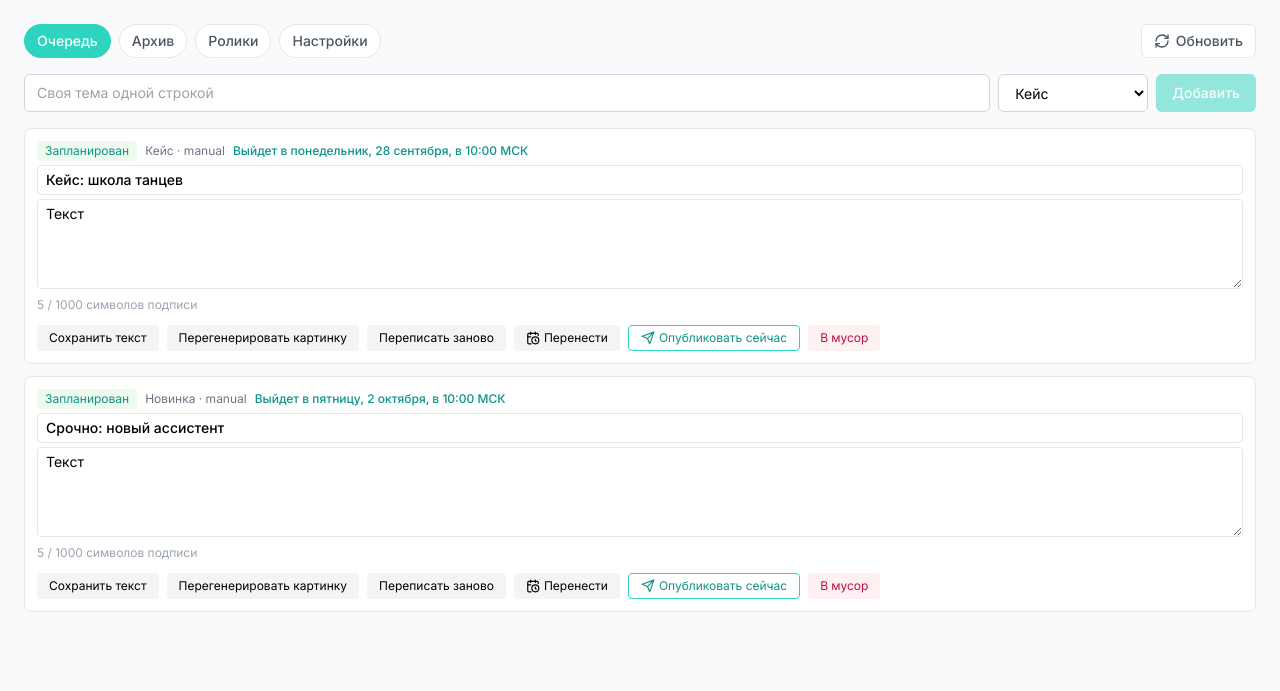
перенос слота › срочное — на понедельник, кейс — на среду: два переноса без тупиков
What coordinates should you click on to do the following:
click the 1st button "Перенести"
I would click on:
 (567, 338)
Its box is [514,325,620,351].
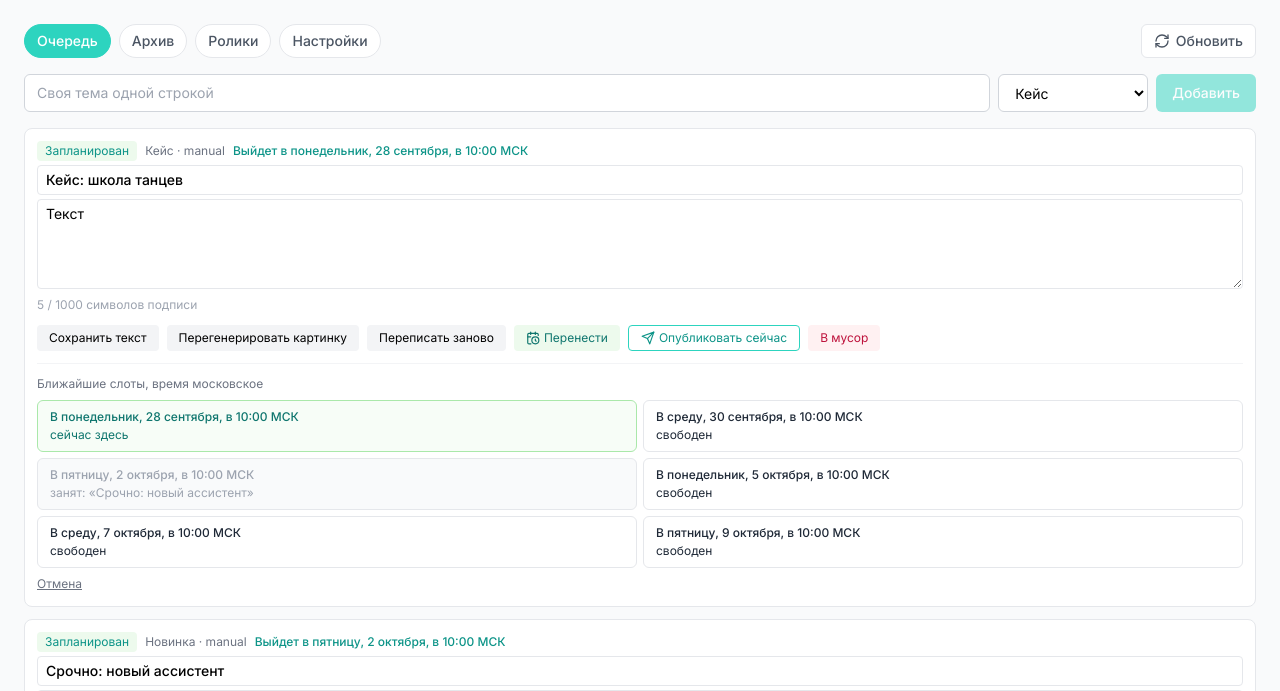
What coordinates should you click on to do the following:
click the button "В среду, 30 сентября, в 10:00 МСК свободен"
I would click on:
 (759, 416)
Its box is [643,400,1243,452].
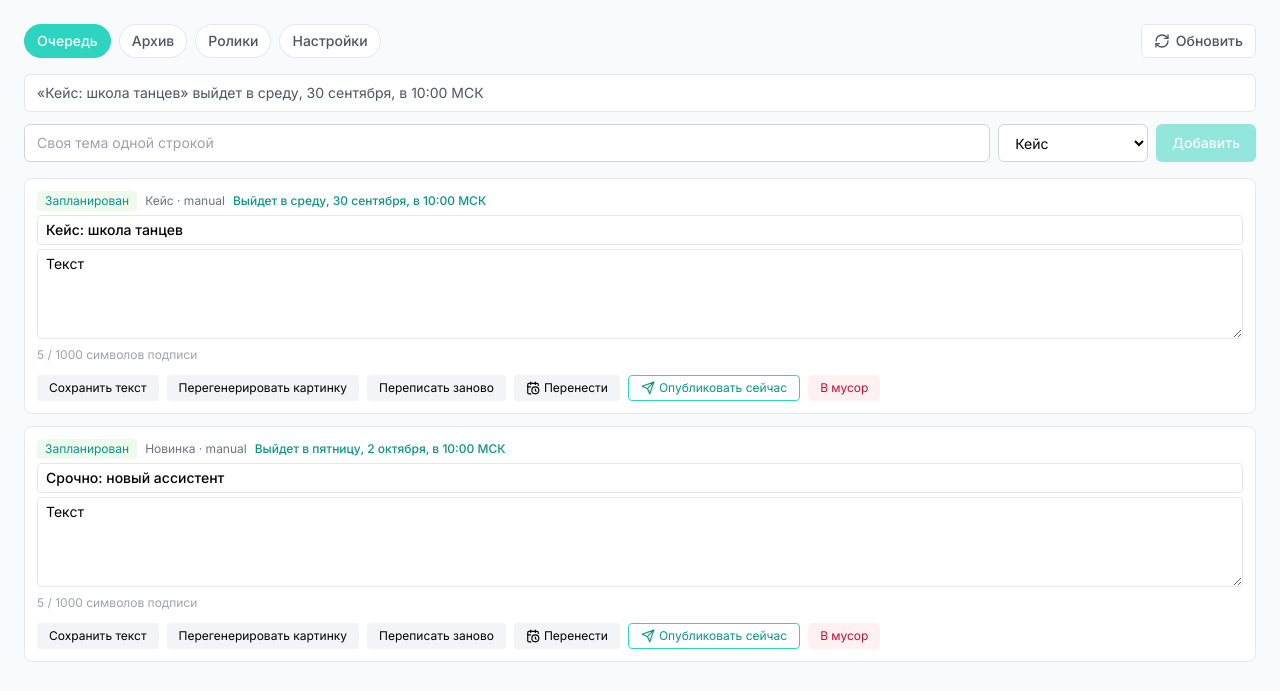
Now the text "Выйдет в среду, 30 сентября, в 10:00 МСК" is shown, box [233,193,486,209]
What coordinates should you click on to do the following:
click the button "Перенести" below "Выйдет в пятницу, 2 октября, в 10:00 МСК"
I would click on:
 (567, 636)
Its box is [514,623,620,649].
(page scrolled)
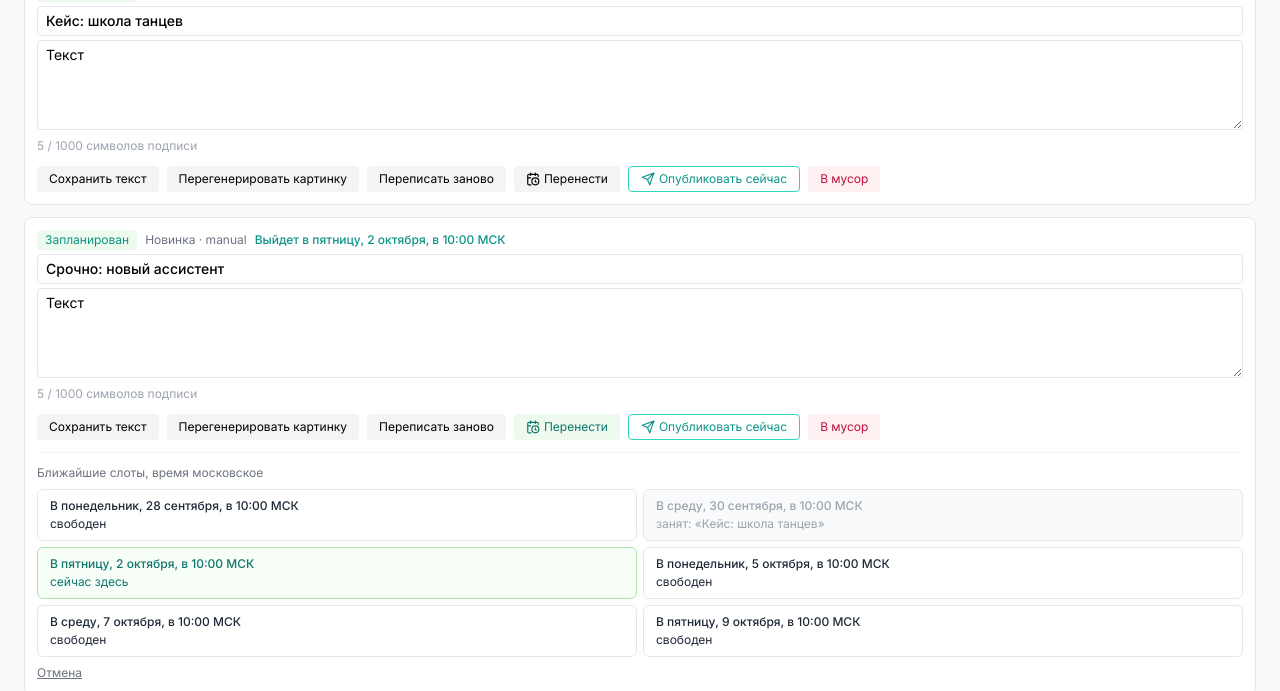
What coordinates should you click on to do the following:
click the button "В понедельник, 28 сентября, в 10:00 МСК свободен"
I would click on:
 (174, 506)
Its box is [37,489,637,541].
(page scrolled)
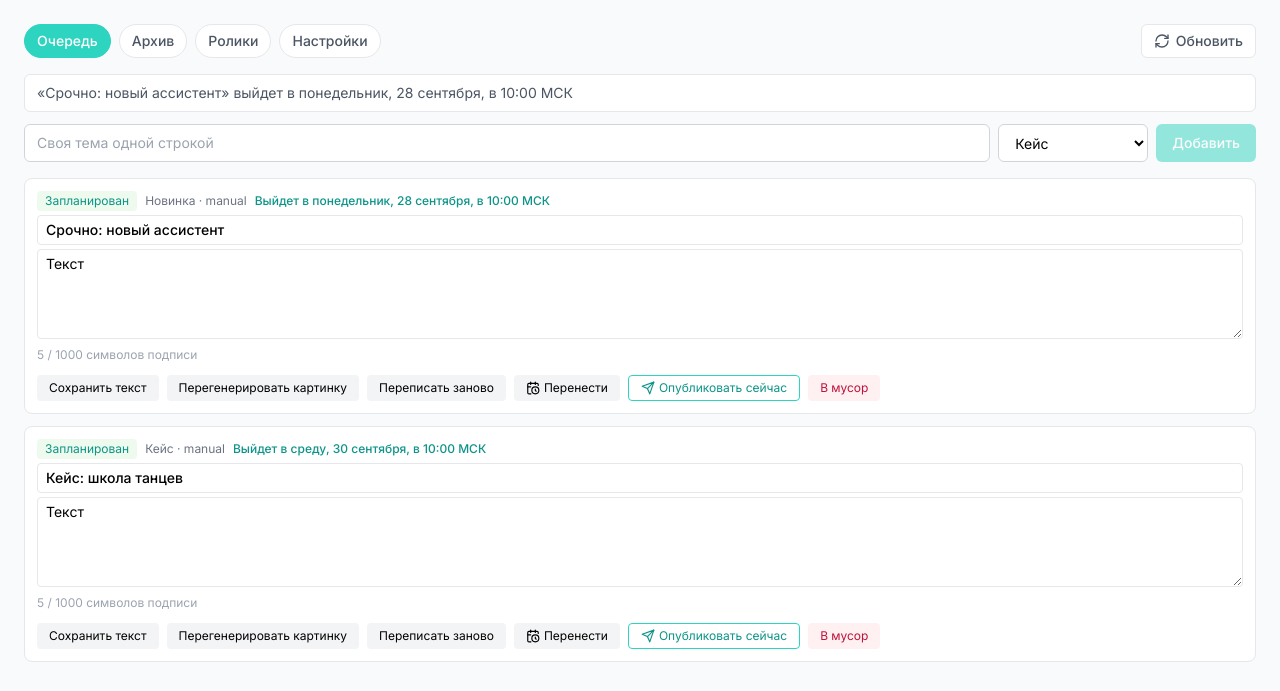
Now the text "Выйдет в среду, 30 сентября, в 10:00 МСК" is shown, box [233,441,486,457]
Now the text "Выйдет в понедельник, 28 сентября, в 10:00 МСК" is shown, box [255,193,550,209]
